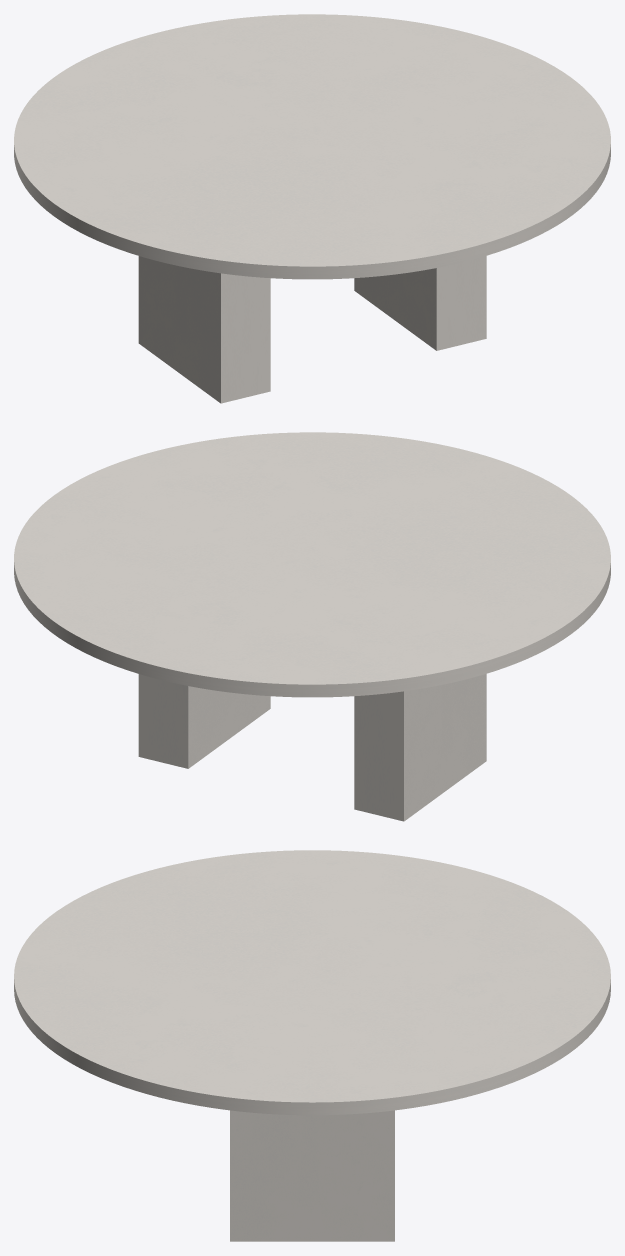
The model's file is pearlwhite_round_standard_ridge.glb.
3 renders of one model, top to bottom at view 1: azimuth 30°, elevation 25°; view 2: azimuth 150°, elevation 25°; view 3: azimuth 270°, elevation 25°, orthographic.
Parts seen in each view (by area): view 1: standard_round, ridge; view 2: standard_round, ridge; view 3: standard_round, ridge.
Part boxes in pixels (x1,y1,x2,y2): standard_round: [14, 14, 610, 279]; ridge: [138, 256, 486, 403]; standard_round: [14, 432, 610, 697]; ridge: [138, 674, 486, 821]; standard_round: [14, 850, 610, 1115]; ridge: [230, 1110, 394, 1241].
Bounding box in the file's own units: 6.75 × 2.5 × 6.75.
1 material, 1 textured.
